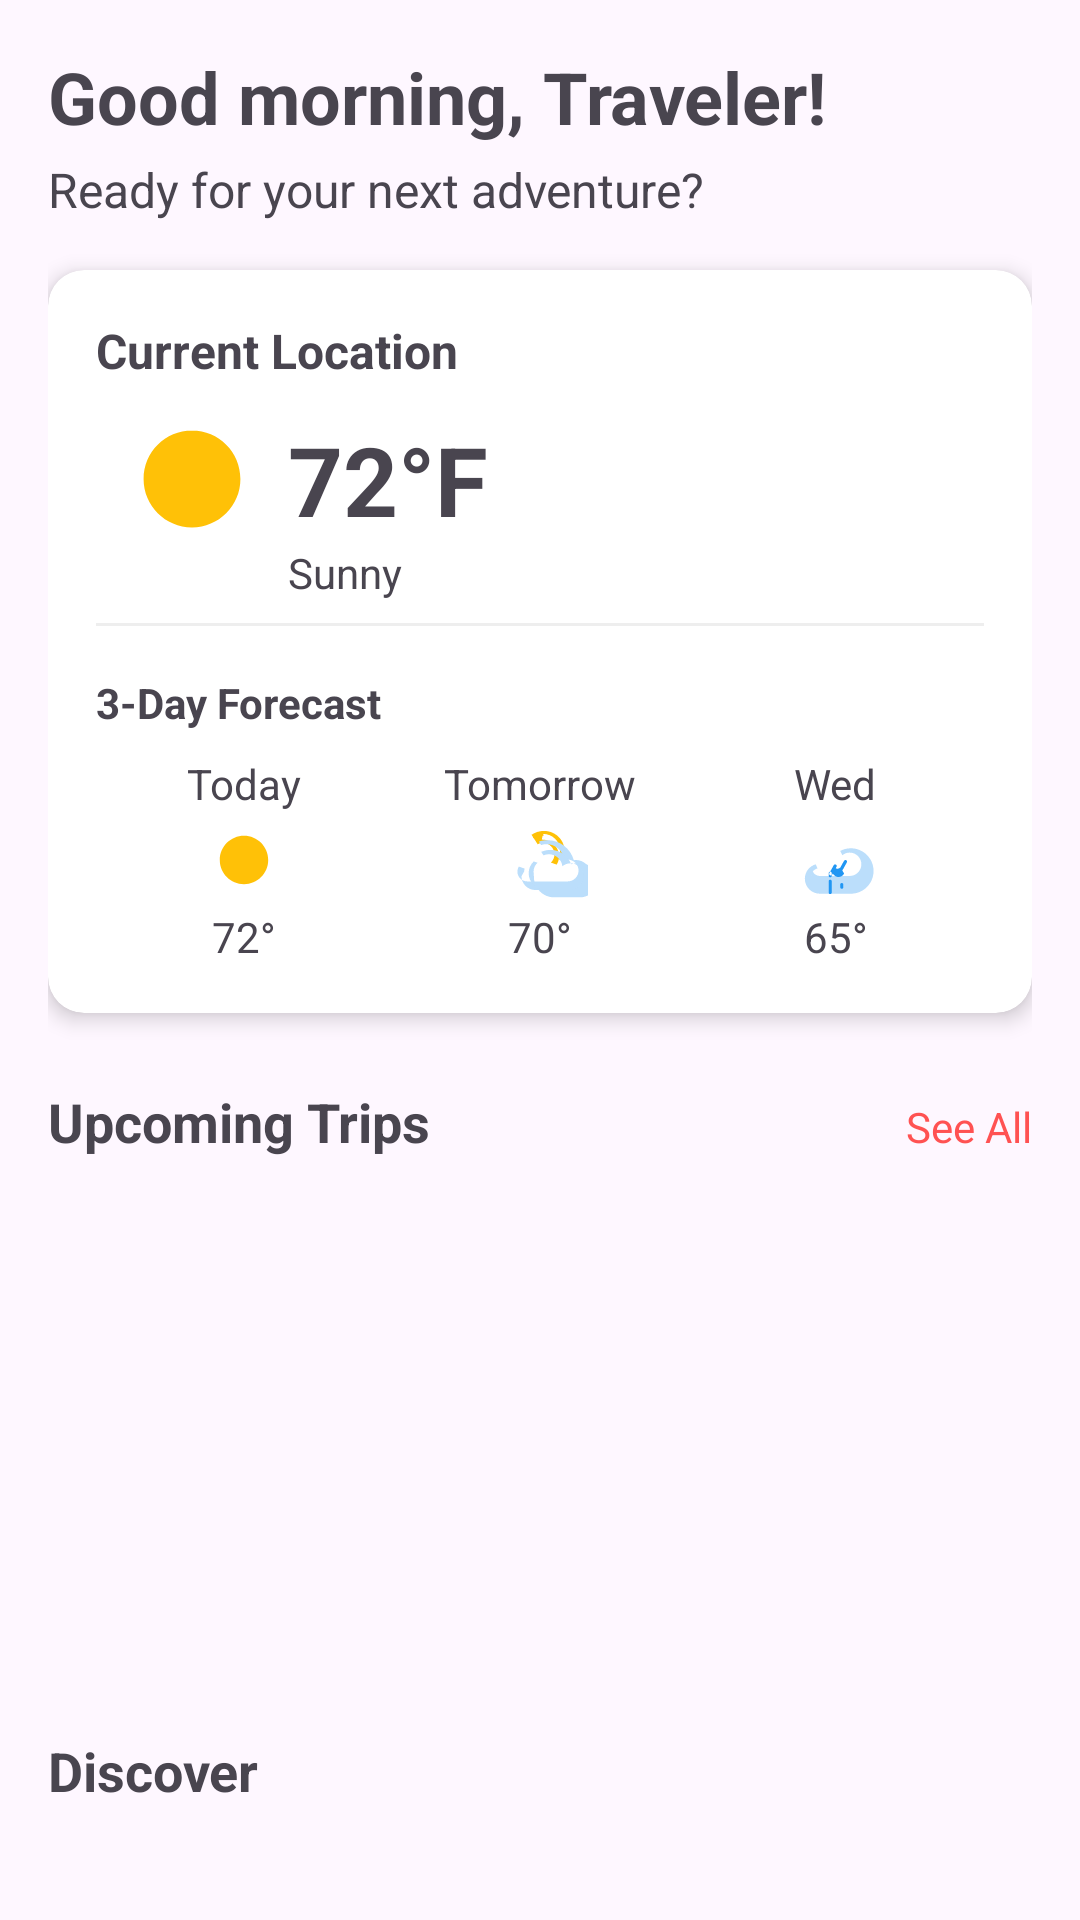

Where icons sit on this 1080px x 1920px app screen, as (x1, y1, x2, y2):
Weather icon: (143, 430, 241, 528)
weather partly cloudy: (517, 831, 588, 897)
weather rainy: (805, 848, 874, 894)
weather sunny: (219, 835, 269, 885)
